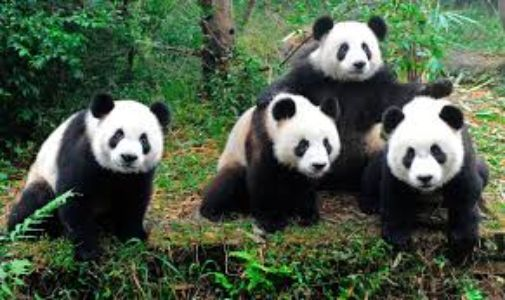bear: (13, 94, 176, 253), (371, 94, 490, 258), (264, 4, 446, 100), (219, 85, 333, 222)
